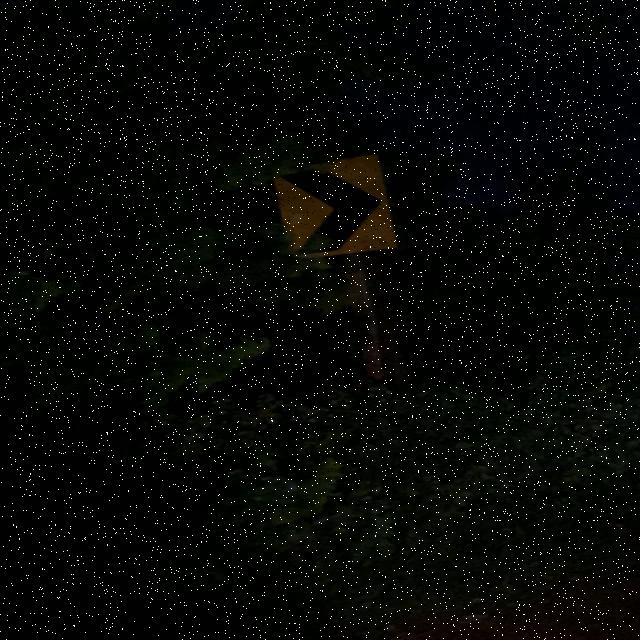chevron_right: (268, 160, 386, 258)
